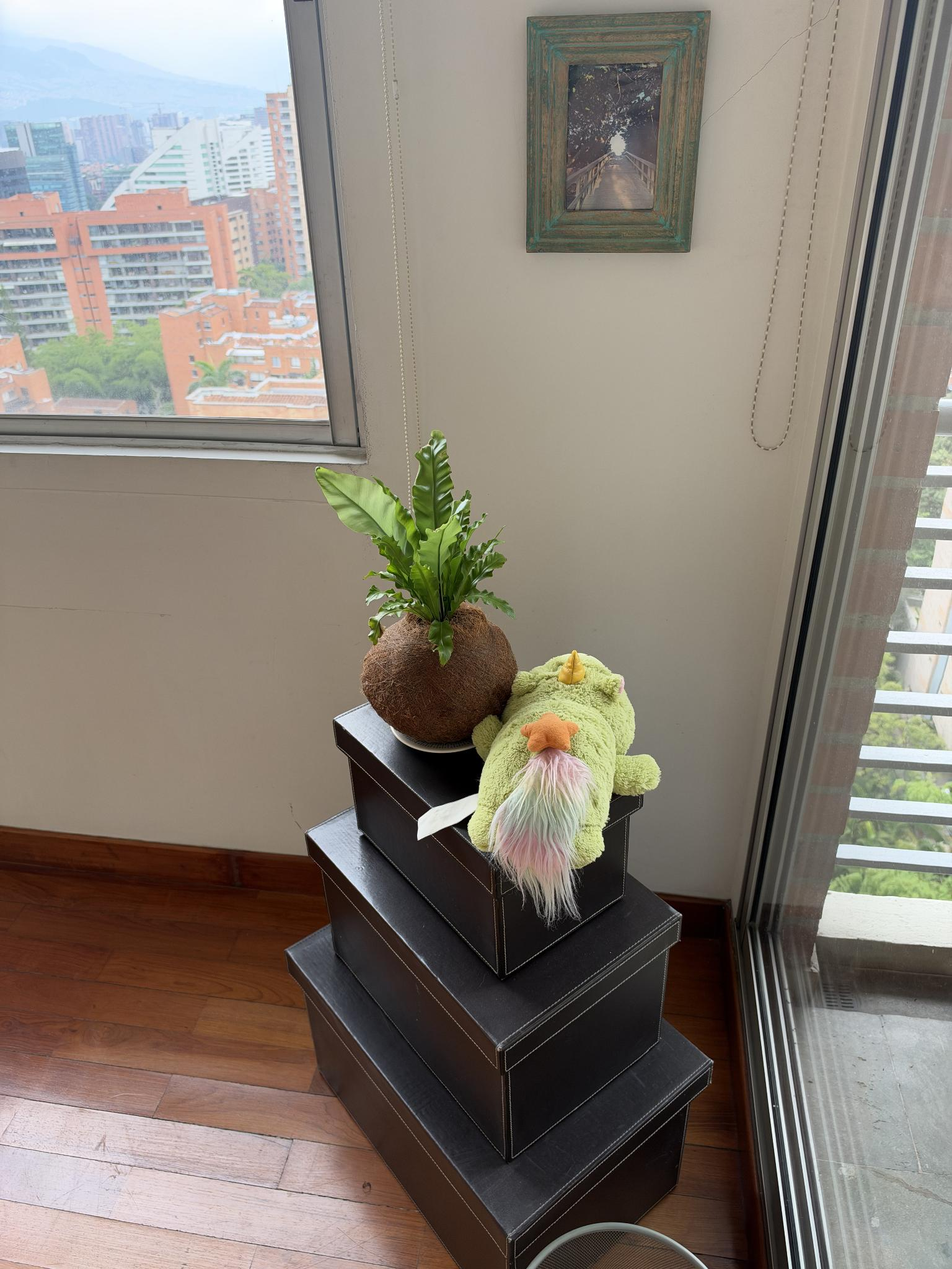peluche_martin: (465, 648, 663, 926)
